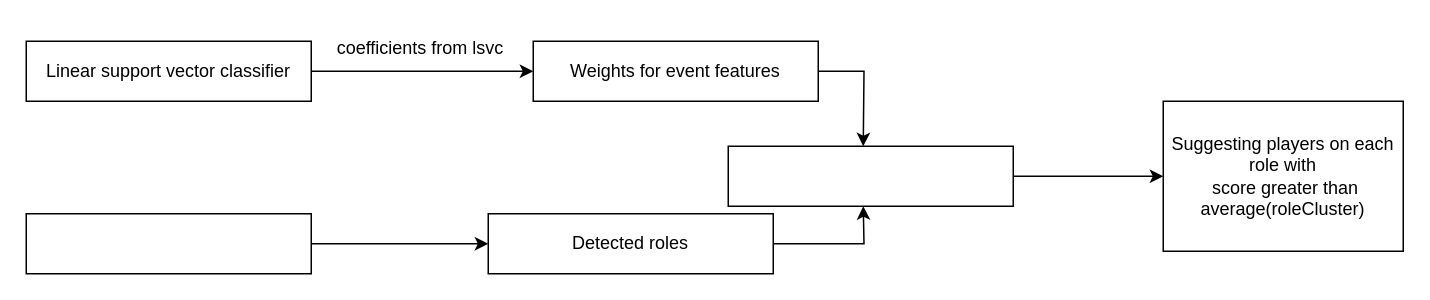
Some shapes in this 1430 by 300 pixel diagram are drawn without their labels. Here are the shapes that lost their labels. From the top down, the box of each, then its label:
(727, 145, 1013, 206): Player rating based on roles
(25, 212, 311, 274): C-means clustering
